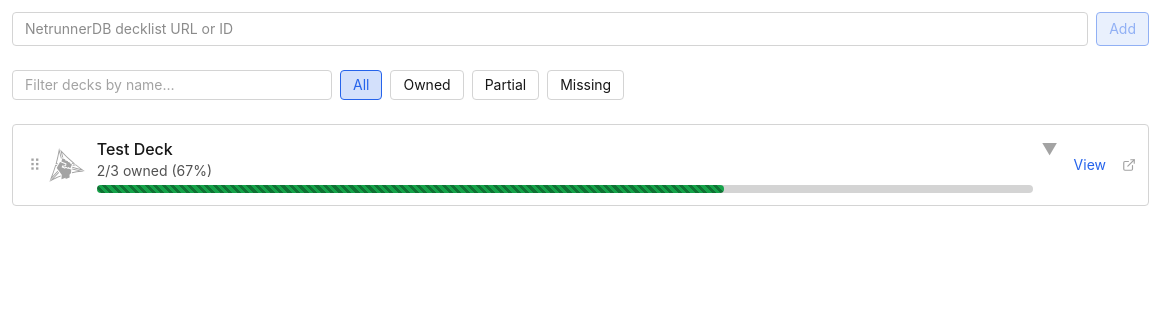
Test case: DeckSection › clicking the deck header expands its card list
This screenshot has width=1164, height=310.
Step 1. Click the button "Test Deck 2/3 owned (67%) ▼" → (135, 149), box [97,137,1058,193]
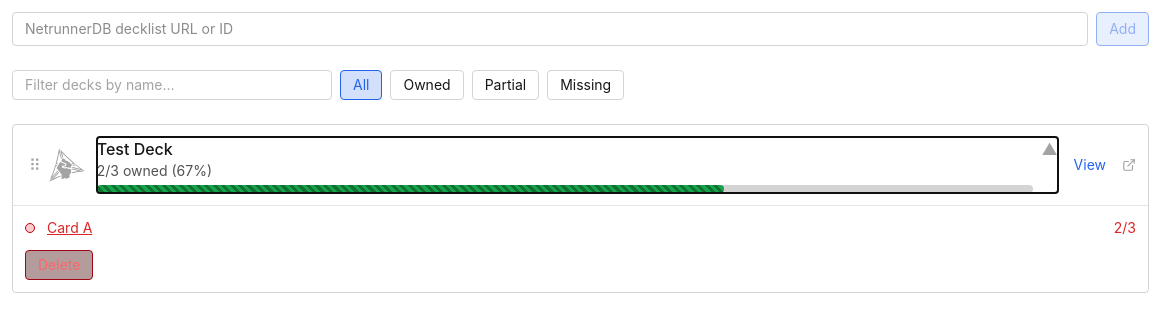
Result: the button "Card A" is shown at [47,218,92,238]
